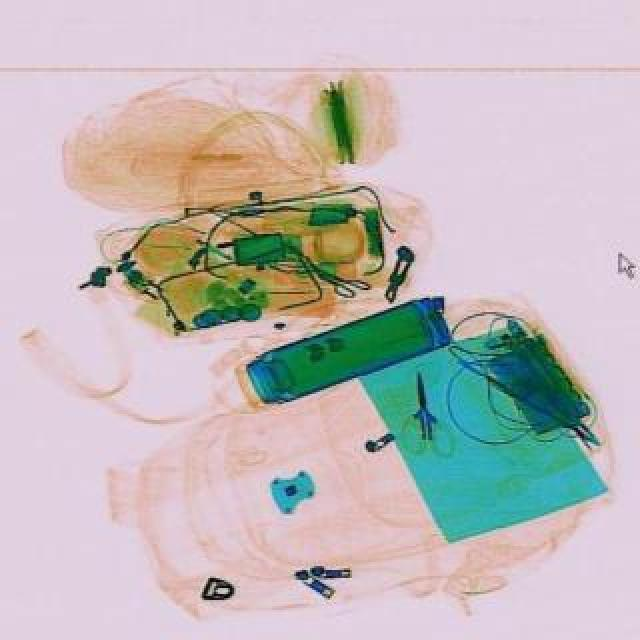knife: (402, 368, 434, 440)
